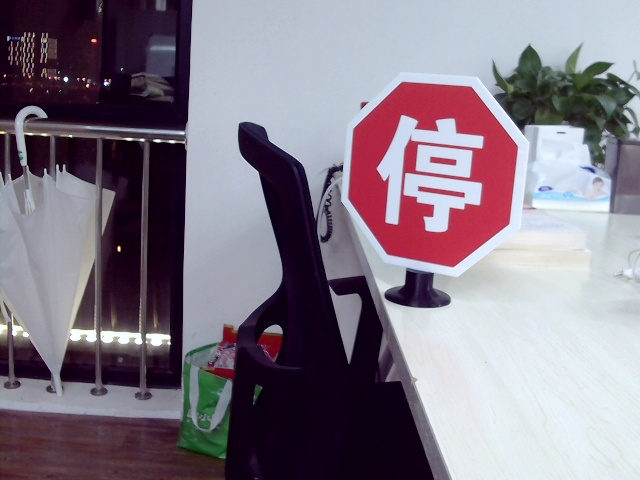stop: (373, 112, 487, 230)
